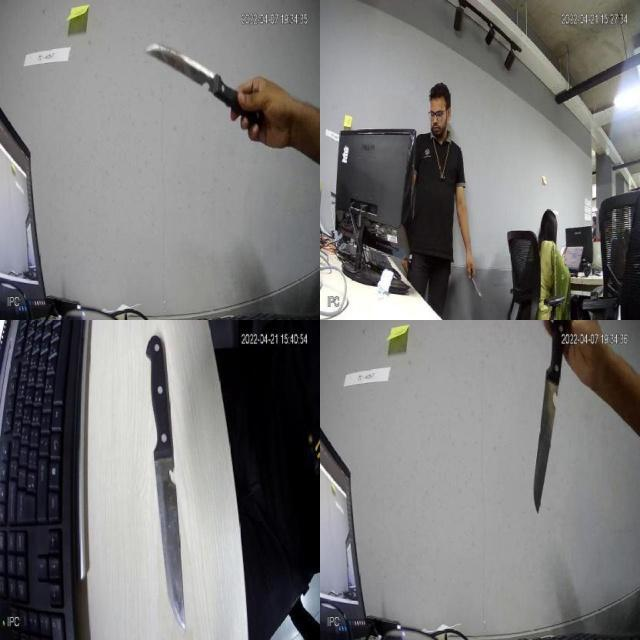-: (140, 31, 283, 150), (142, 322, 194, 627), (531, 321, 581, 524), (462, 263, 489, 309)
